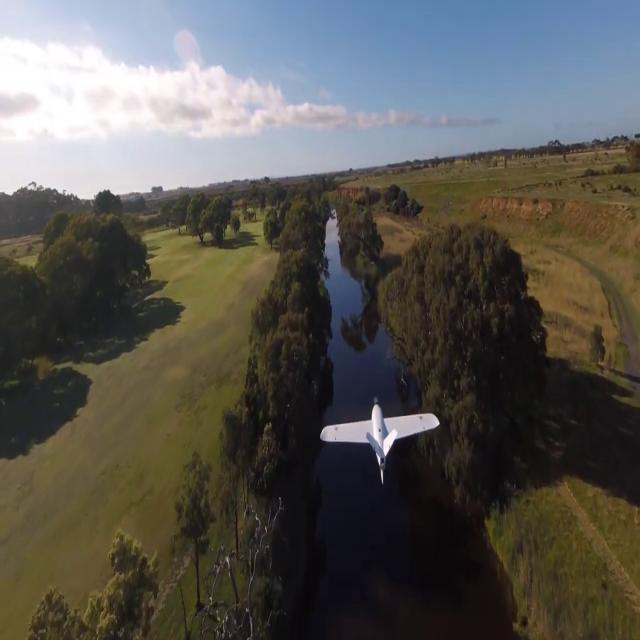iha: (349, 437, 409, 439)
